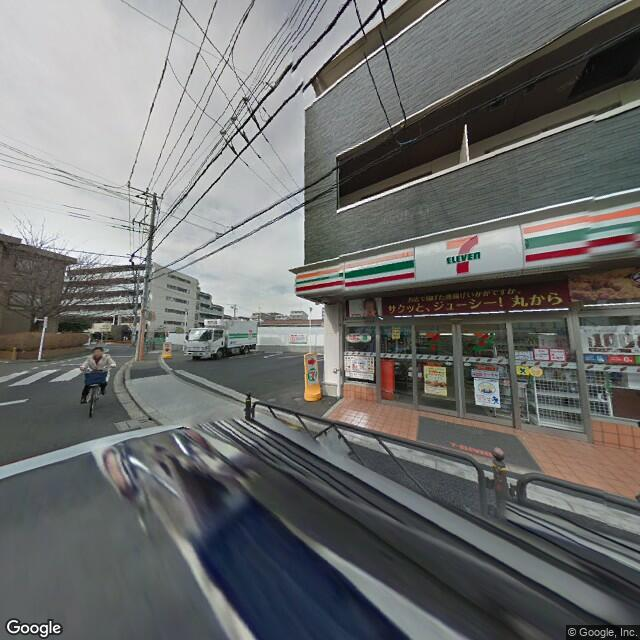7-eleven: (291, 191, 638, 302)
